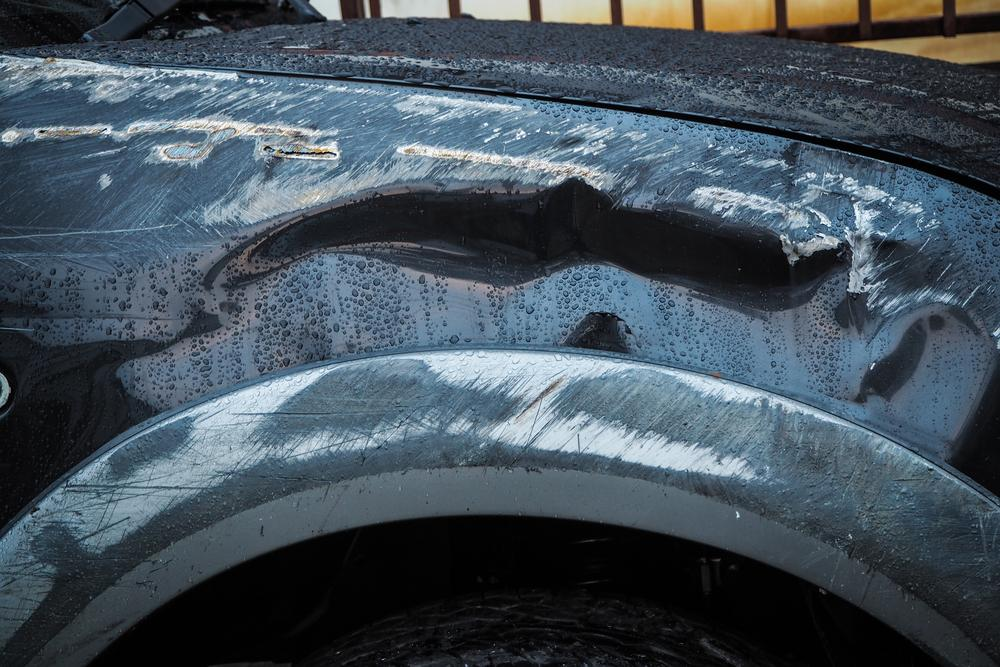dent: (221, 178, 995, 451)
scratch: (0, 344, 1000, 667), (0, 52, 1000, 341)
